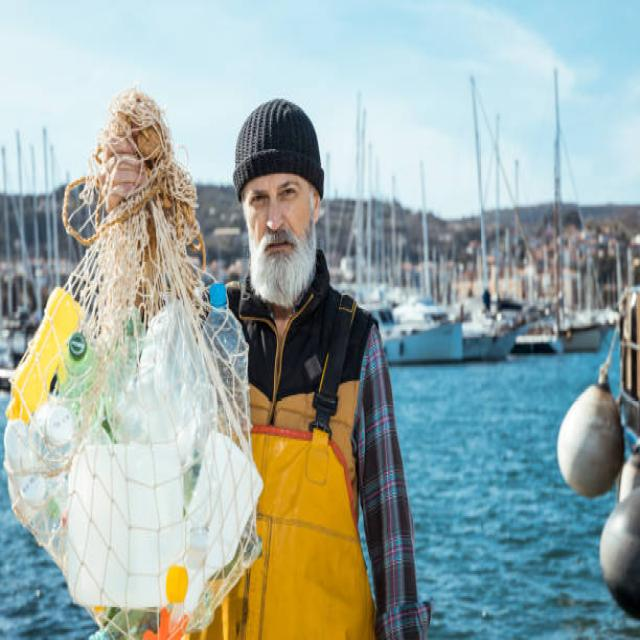plastic: (41, 316, 246, 602)
